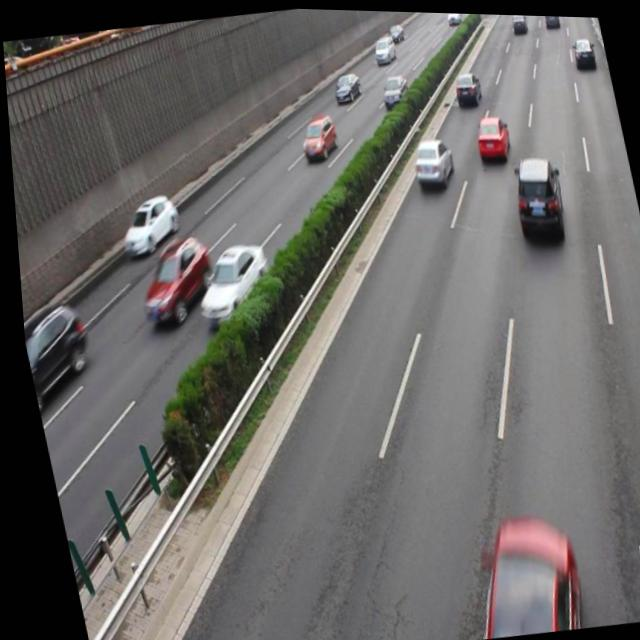car: (17, 296, 94, 410), (183, 239, 275, 332), (126, 230, 216, 325), (503, 150, 567, 245), (111, 191, 183, 256), (405, 133, 454, 188), (469, 110, 511, 163), (293, 112, 337, 162), (449, 67, 482, 107)
